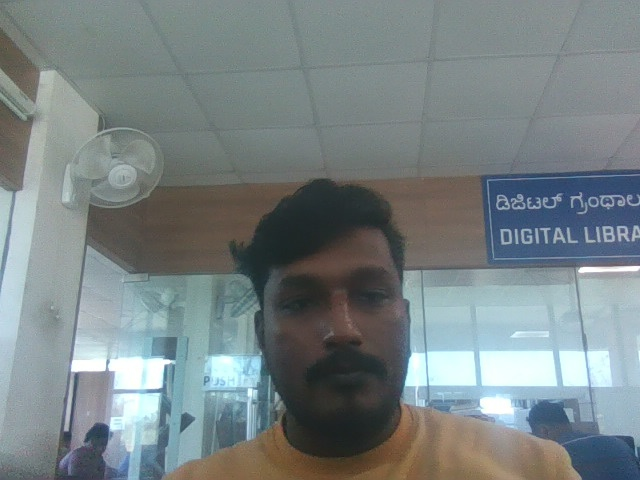real: (238, 160, 436, 440)
